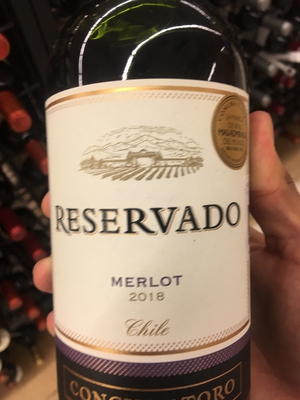reservado merlot: (47, 34, 259, 399)
